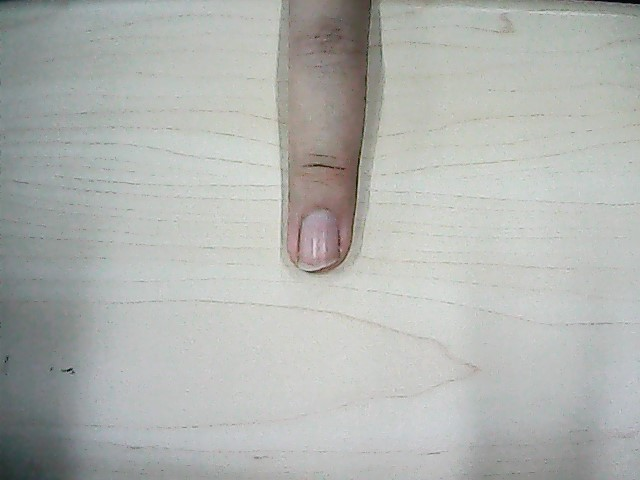nail: (295, 202, 341, 272)
